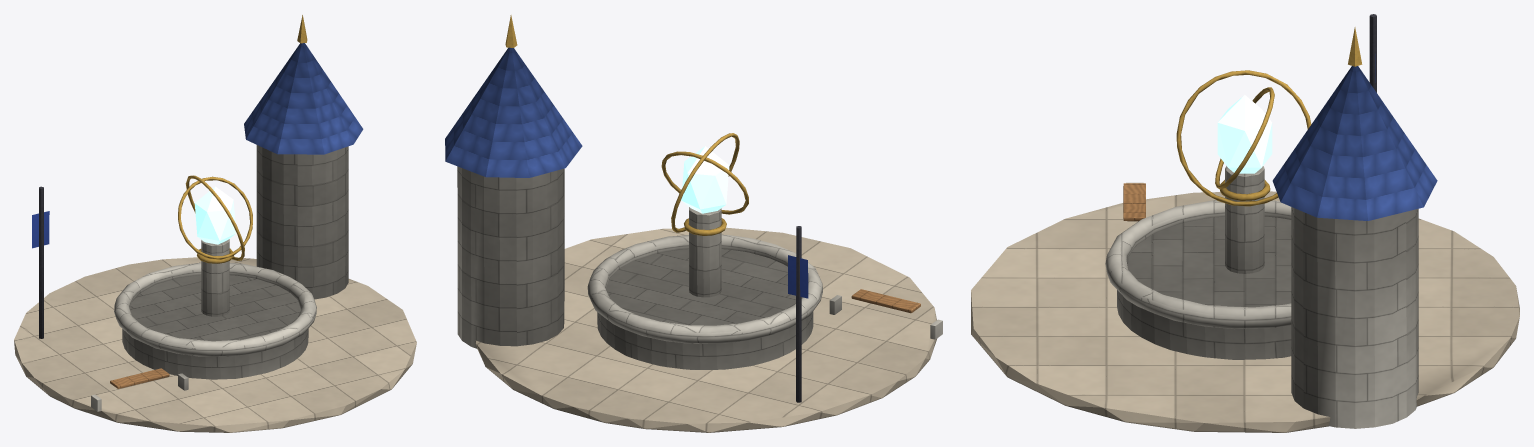
The model's file is p30_sample_lite.glb.
The picture shows the model from 3 angles, left to right: view 1: azimuth 30°, elevation 25°; view 2: azimuth 150°, elevation 25°; view 3: azimuth 270°, elevation 25°; orthographic projection. The views are drawn at different scales.
Visible parts, largest first — view 1: P30_paving, P30_stone, P30_roof, P30_metal, P30_crystal, P30_wood, P30_cloth; view 2: P30_stone, P30_paving, P30_roof, P30_metal, P30_crystal, P30_wood, P30_cloth; view 3: P30_stone, P30_paving, P30_roof, P30_metal, P30_crystal, P30_wood.
Part boxes in pixels (bbox=[...]): P30_paving: bbox=[14, 257, 416, 432]; P30_stone: bbox=[91, 145, 348, 411]; P30_roof: bbox=[244, 43, 363, 154]; P30_metal: bbox=[39, 15, 307, 338]; P30_crystal: bbox=[194, 186, 236, 244]; P30_wood: bbox=[110, 368, 169, 388]; P30_cloth: bbox=[32, 211, 49, 248]; P30_stone: bbox=[457, 166, 942, 369]; P30_paving: bbox=[475, 227, 937, 432]; P30_roof: bbox=[445, 47, 582, 177]; P30_metal: bbox=[505, 15, 801, 402]; P30_crystal: bbox=[681, 146, 729, 213]; P30_wood: bbox=[851, 289, 920, 313]; P30_cloth: bbox=[788, 255, 808, 298]; P30_stone: bbox=[1105, 166, 1418, 428]; P30_paving: bbox=[971, 191, 1519, 432]; P30_roof: bbox=[1272, 66, 1437, 220]; P30_metal: bbox=[1176, 14, 1376, 206]; P30_crystal: bbox=[1217, 95, 1272, 173]; P30_wood: bbox=[1123, 183, 1145, 221].
Size of the model in its own units: 6.1 by 4.53 by 5.98.
8 materials, 7 textured.
